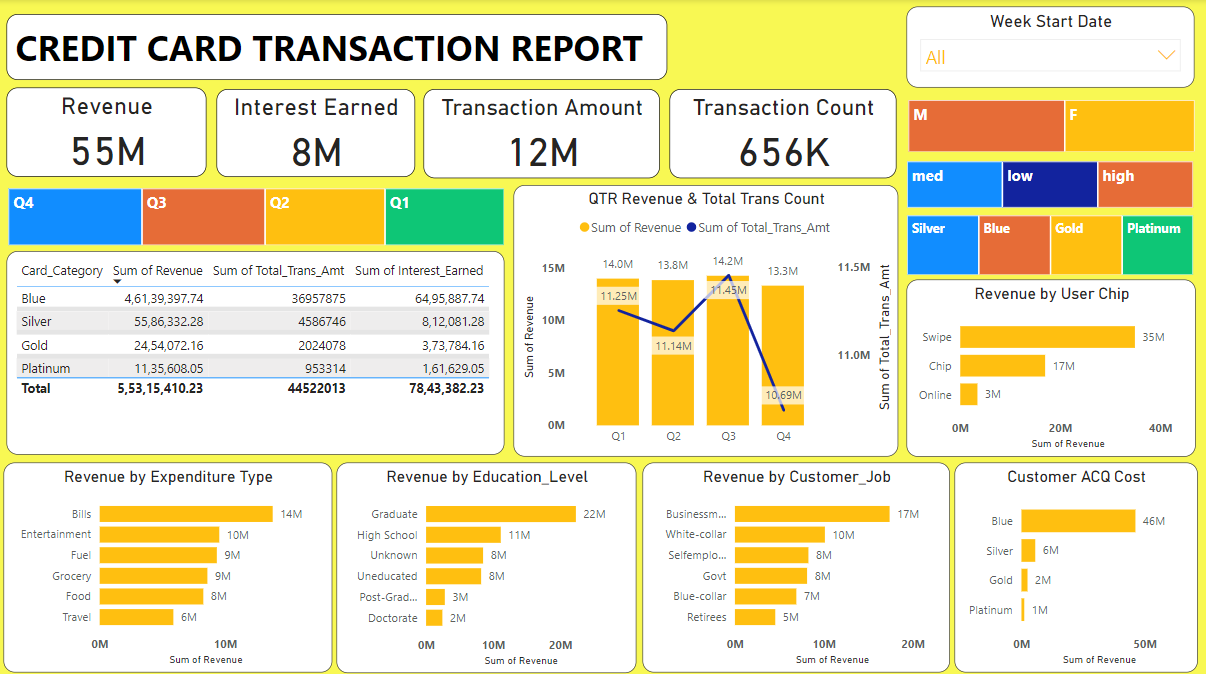

This screenshot's page, from the dashboard's own definition file:
{"tool":"powerbi","page":{"name":"Transaction Report","canvas":[1280,720],"ordinal":1},"visuals":[{"type":"textbox","box":[8.6,15.8,700.4,70.2],"z":0},{"type":"lineStackedColumnComboChart","title":"QTR Revenue & Total Trans Count","fields":{"Category":["credit_card.Qtr"],"Y":["Sum(credit_card.Revenue)"],"Y2":["Sum(credit_card.Total_Trans_Amt)"]},"box":[545.7,197.7,408.2,287.9],"z":1000},{"type":"barChart","title":" Revenue by Expenditure Type","fields":{"Category":["credit_card.Exp Type"],"Y":["Sum(credit_card.Revenue)"]},"box":[4.8,491.5,348.3,222.7],"z":2000},{"type":"barChart","title":"Revenue by Education_Level","fields":{"Y":["Sum(credit_card.Revenue)"],"Category":["customer.Education_Level"]},"box":[358.1,491.3,318,223.5],"z":3000},{"type":"barChart","title":" Revenue by Customer_Job","fields":{"Y":["Sum(credit_card.Revenue)"],"Category":["customer.Customer_Job"]},"box":[682.4,491.5,326.1,222.7],"z":4000},{"type":"barChart","title":" Customer ACQ Cost","fields":{"Y":["Sum(credit_card.Revenue)"],"Category":["credit_card.Card_Category"]},"box":[1013.2,491.5,257.7,222.7],"z":5000},{"type":"barChart","title":" Revenue by User Chip","fields":{"Y":["Sum(credit_card.Revenue)"],"Category":["credit_card.Use Chip"]},"box":[962.3,297.4,307,187.7],"z":6000},{"type":"tableEx","fields":{"Values":["credit_card.Card_Category","Sum(credit_card.Revenue)","Sum(credit_card.Total_Trans_Amt)","Sum(credit_card.Interest_Earned)"]},"box":[8,267.2,528.1,216.3],"z":7000},{"type":"card","title":"Revenue","fields":{"Values":["Sum(credit_card.Revenue)"]},"box":[8.6,94.5,212,94.5],"z":8000},{"type":"card","title":"Interest Earned","fields":{"Values":["Sum(credit_card.Interest_Earned)"]},"box":[230.6,96,210.6,93.1],"z":9000},{"type":"card","title":"Transaction Amount","fields":{"Values":["Sum(credit_card.Total_Revolving_Bal)"]},"box":[449.8,96,250.7,94.5],"z":10000},{"type":"card","title":"Transaction Count","fields":{"Values":["Sum(credit_card.Total_Trans_Vol)"]},"box":[710.5,96,240.6,94.5],"z":11000},{"type":"slicer","title":"Week Start Date","fields":{"Values":["credit_card.Week_Start_Date"]},"box":[962.3,8,305.4,85.9],"z":12000},{"type":"treemap","fields":{"Group":["credit_card.Qtr"],"Values":["Avg(customer.Client_Num)"]},"box":[4.3,196.2,535.7,70.2],"z":13000},{"type":"treemap","fields":{"Group":["customer.Gender"],"Values":["Sum(credit_card.Revenue)"]},"box":[959.1,101.8,313.4,65.2],"z":14000},{"type":"treemap","fields":{"Values":["Avg(customer.Client_Num)"],"Group":["credit_card.Card_Category"]},"box":[957.5,224.3,313.4,73.2],"z":15000},{"type":"treemap","fields":{"Values":["Avg(customer.Client_Num)"],"Group":["customer.IncomeGroup"]},"box":[957.5,167,313.4,58.9],"z":16000}]}

Visuals, with their boxes in screenshot pixels (x1, y1, x2, y2), scaled from the page's 1280x720 canvas onto the 1206x674 screenshot:
textbox: (8, 15, 668, 81)
"QTR Revenue & Total Trans Count" lineStackedColumnComboChart: (514, 185, 899, 455)
" Revenue by Expenditure Type" barChart: (5, 460, 333, 669)
"Revenue by Education_Level" barChart: (337, 460, 637, 669)
" Revenue by Customer_Job" barChart: (643, 460, 950, 669)
" Customer ACQ Cost" barChart: (955, 460, 1197, 669)
" Revenue by User Chip" barChart: (907, 278, 1196, 454)
tableEx - credit_card.Card_Category x Sum(credit_card.Revenue): (8, 250, 505, 453)
"Revenue" card: (8, 88, 208, 177)
"Interest Earned" card: (217, 90, 416, 177)
"Transaction Amount" card: (424, 90, 660, 178)
"Transaction Count" card: (669, 90, 896, 178)
"Week Start Date" slicer: (907, 7, 1194, 88)
treemap - credit_card.Qtr x Avg(customer.Client_Num): (4, 184, 509, 249)
treemap - customer.Gender x Sum(credit_card.Revenue): (904, 95, 1199, 156)
treemap - Avg(customer.Client_Num) x credit_card.Card_Category: (902, 210, 1197, 278)
treemap - Avg(customer.Client_Num) x customer.IncomeGroup: (902, 156, 1197, 211)
